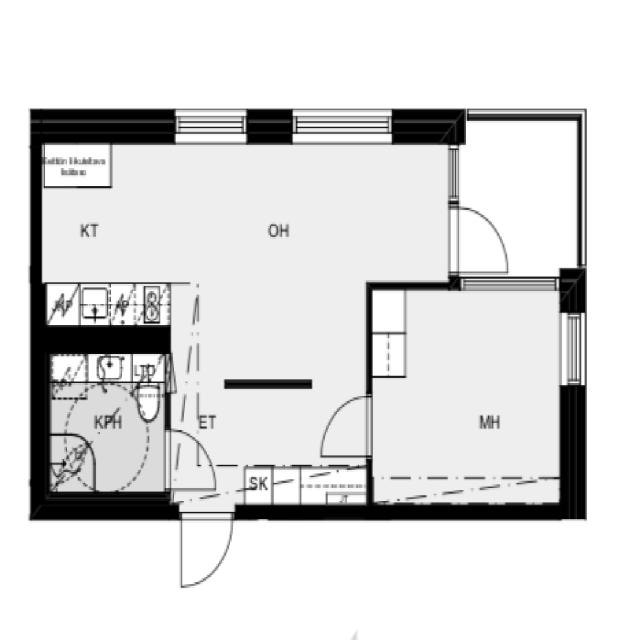door: (443, 200, 518, 271), (176, 511, 236, 584), (158, 424, 217, 492), (323, 384, 369, 466)
window: (285, 102, 388, 141), (171, 109, 252, 146), (560, 306, 587, 388), (461, 276, 558, 292), (444, 143, 467, 200)
zone: (42, 140, 453, 344), (371, 282, 566, 511), (166, 376, 372, 514), (46, 350, 170, 500)
